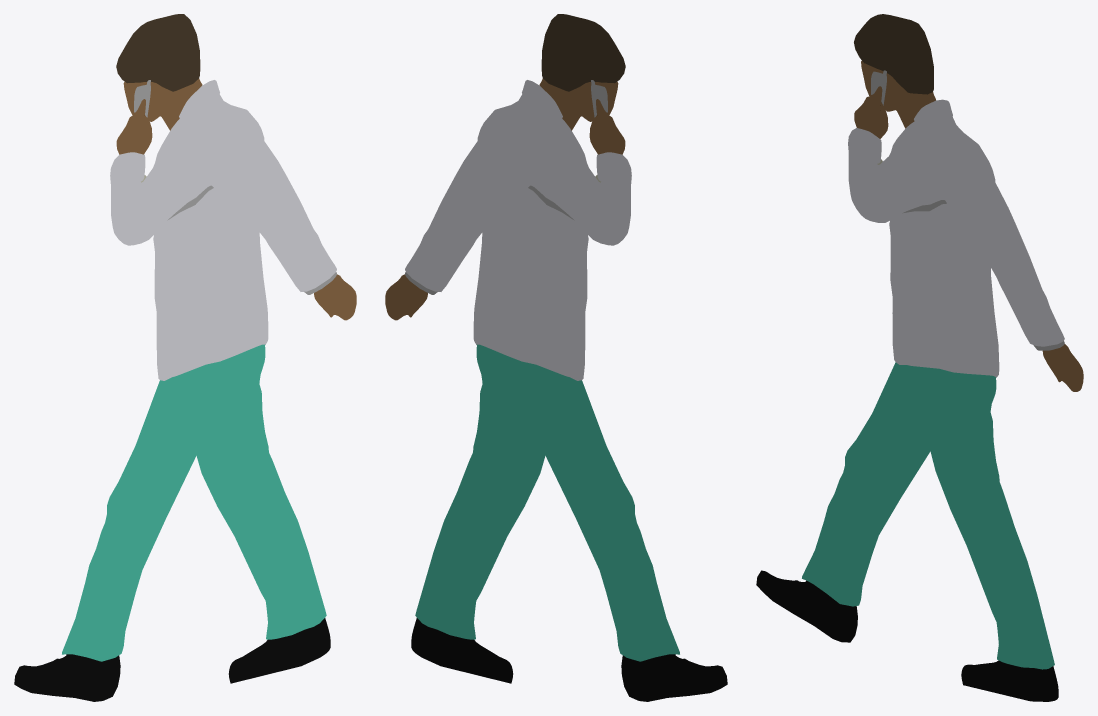
Rendered from 2D_Man_Walking_Side-scrubs.fbx.
3 renders of one model, left to right at view 1: azimuth 30°, elevation 25°; view 2: azimuth 150°, elevation 25°; view 3: azimuth 330°, elevation 25°, orthographic. The views are drawn at different scales.
Parts seen in each view (by area): view 1: Mesh01; view 2: Mesh01; view 3: Mesh01.
Boxes of the visible parts, box(x1,y1,x2,y2) form: Mesh01: box(14, 14, 356, 701); Mesh01: box(385, 14, 727, 701); Mesh01: box(756, 14, 1083, 701).
Size of the model in its own units: 52.5 by 100 by 9.39e-14.
